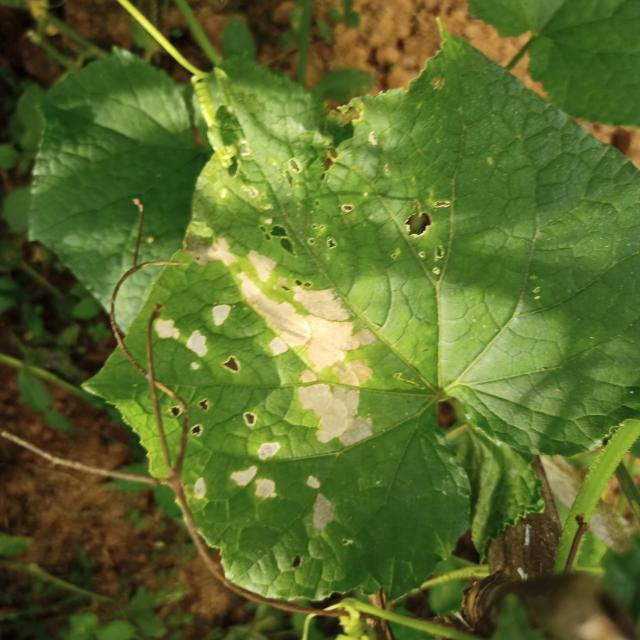disease_cucumber: (153, 230, 377, 532)
